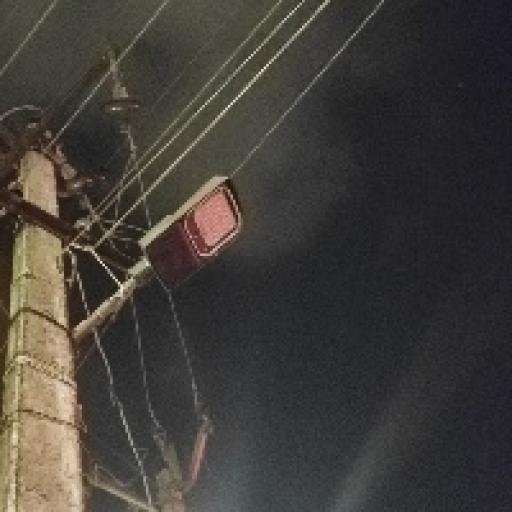Not Working: (114, 162, 252, 311)
